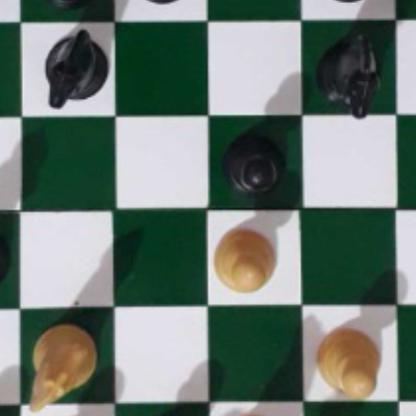black-bishop: (0, 220, 14, 297)
black-knight: (315, 28, 382, 115), (42, 26, 105, 103)
black-pawn: (222, 125, 287, 196), (38, 0, 97, 6), (129, 0, 190, 2), (0, 0, 2, 2)
white-knight: (24, 317, 95, 408), (220, 410, 289, 416)
white-pawn: (313, 321, 380, 396), (210, 222, 275, 291), (131, 415, 198, 416), (406, 410, 416, 416)
